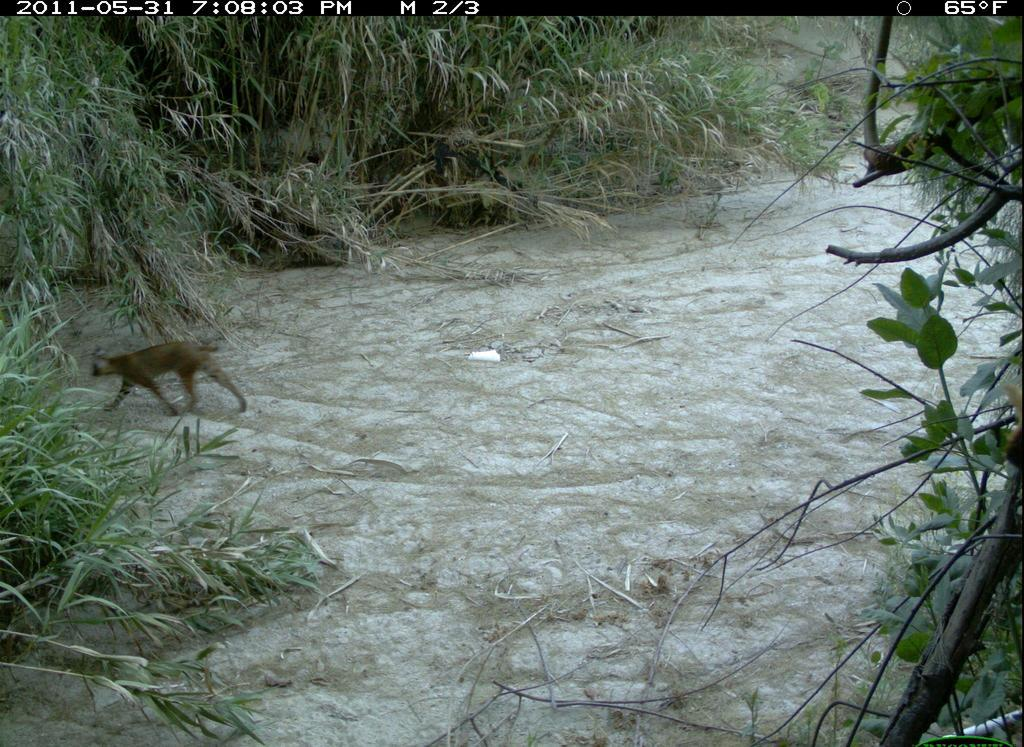bobcat: (81, 335, 259, 428)
